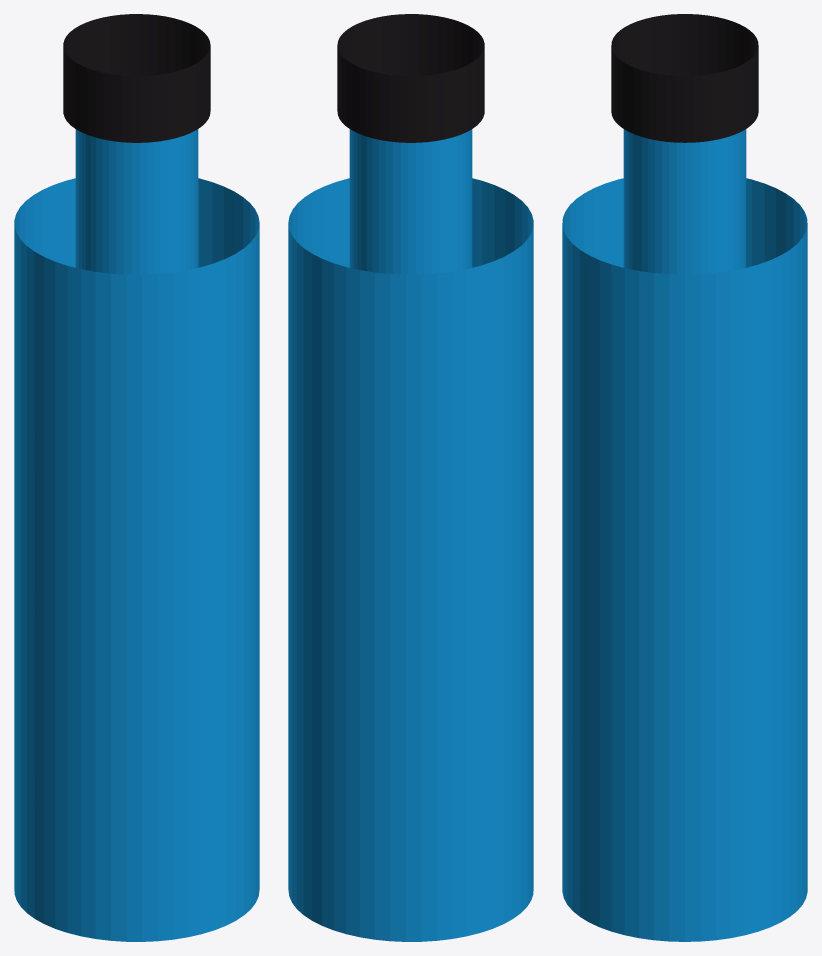
File: Vial_of_water.glb
3 renders of one model, left to right at view 1: azimuth 30°, elevation 25°; view 2: azimuth 150°, elevation 25°; view 3: azimuth 270°, elevation 25°, orthographic.
Visible parts, largest first — view 1: empty_vial_with_cork_vial, empty_vial_with_cork_cork; view 2: empty_vial_with_cork_vial, empty_vial_with_cork_cork; view 3: empty_vial_with_cork_vial, empty_vial_with_cork_cork.
Part boxes in pixels (x1,y1,x2,y2): empty_vial_with_cork_vial: (14, 129, 259, 941); empty_vial_with_cork_cork: (63, 14, 210, 142); empty_vial_with_cork_vial: (288, 129, 533, 941); empty_vial_with_cork_cork: (337, 14, 484, 142); empty_vial_with_cork_vial: (562, 129, 807, 941); empty_vial_with_cork_cork: (611, 14, 758, 142).
Bounding box in the file's own units: 9.99 × 38 × 9.99.
